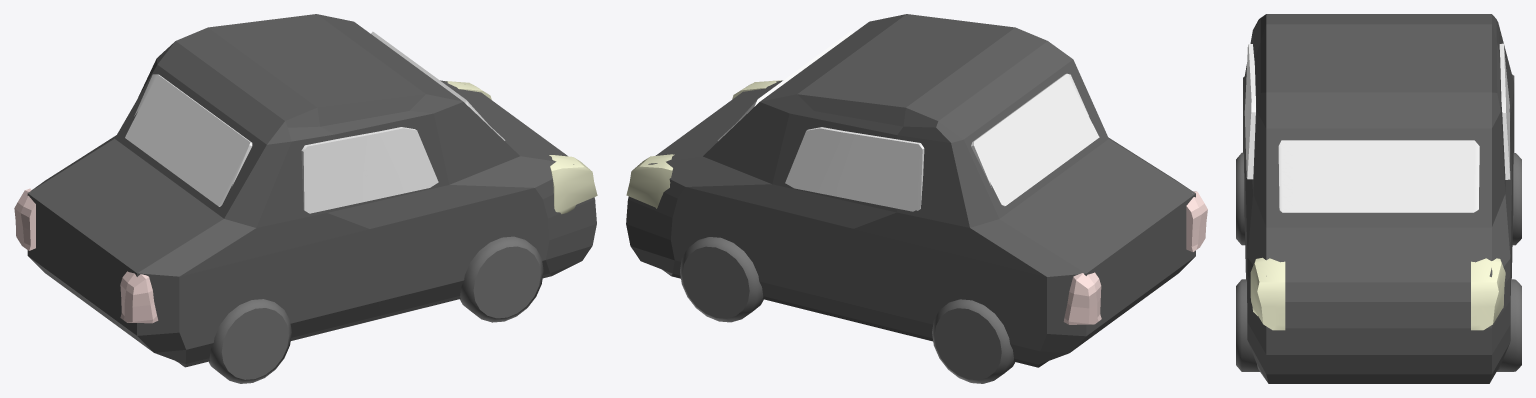
Rendered from CarroNegro.fbx.
3 renders of one model, left to right at view 1: azimuth 30°, elevation 25°; view 2: azimuth 150°, elevation 25°; view 3: azimuth 270°, elevation 25°, orthographic. The views are drawn at different scales.
Visible parts, largest first — view 1: pCube1, pCube10, pCube8, pCylinder1, pCylinder2, pCube11, pCube9, pCube6; view 2: pCube1, pCube10, pCube12, pCylinder3, pCylinder4, pCube11, pCube9, pCube6; view 3: pCube1, pCube6, pCube9, pCube8, pCylinder1, pCylinder3, pCube12, pCylinder4, pCylinder2.
Boxes of the visible parts, x1,y1,x2,y2 form: pCube1: (27, 14, 596, 367); pCube10: (125, 74, 252, 206); pCube8: (301, 127, 438, 213); pCylinder1: (460, 236, 543, 322); pCylinder2: (209, 299, 291, 383); pCube11: (14, 188, 158, 323); pCube9: (445, 81, 597, 214); pCube6: (371, 31, 505, 140); pCube1: (626, 14, 1195, 367); pCube10: (971, 73, 1099, 206); pCube12: (785, 127, 924, 211); pCylinder3: (680, 237, 763, 322); pCylinder4: (932, 299, 1015, 383); pCube11: (1063, 191, 1207, 324); pCube9: (626, 80, 781, 208); pCube6: (717, 31, 853, 141); pCube1: (1243, 14, 1514, 383); pCube6: (1278, 140, 1479, 212); pCube9: (1250, 257, 1505, 330); pCube8: (1244, 44, 1255, 179); pCylinder1: (1236, 279, 1259, 371); pCylinder3: (1496, 279, 1521, 371); pCube12: (1499, 43, 1510, 179); pCylinder4: (1512, 153, 1521, 245); pCylinder2: (1236, 152, 1244, 245).
Size of the model in its own units: 21.67 by 10.94 by 11.09.
